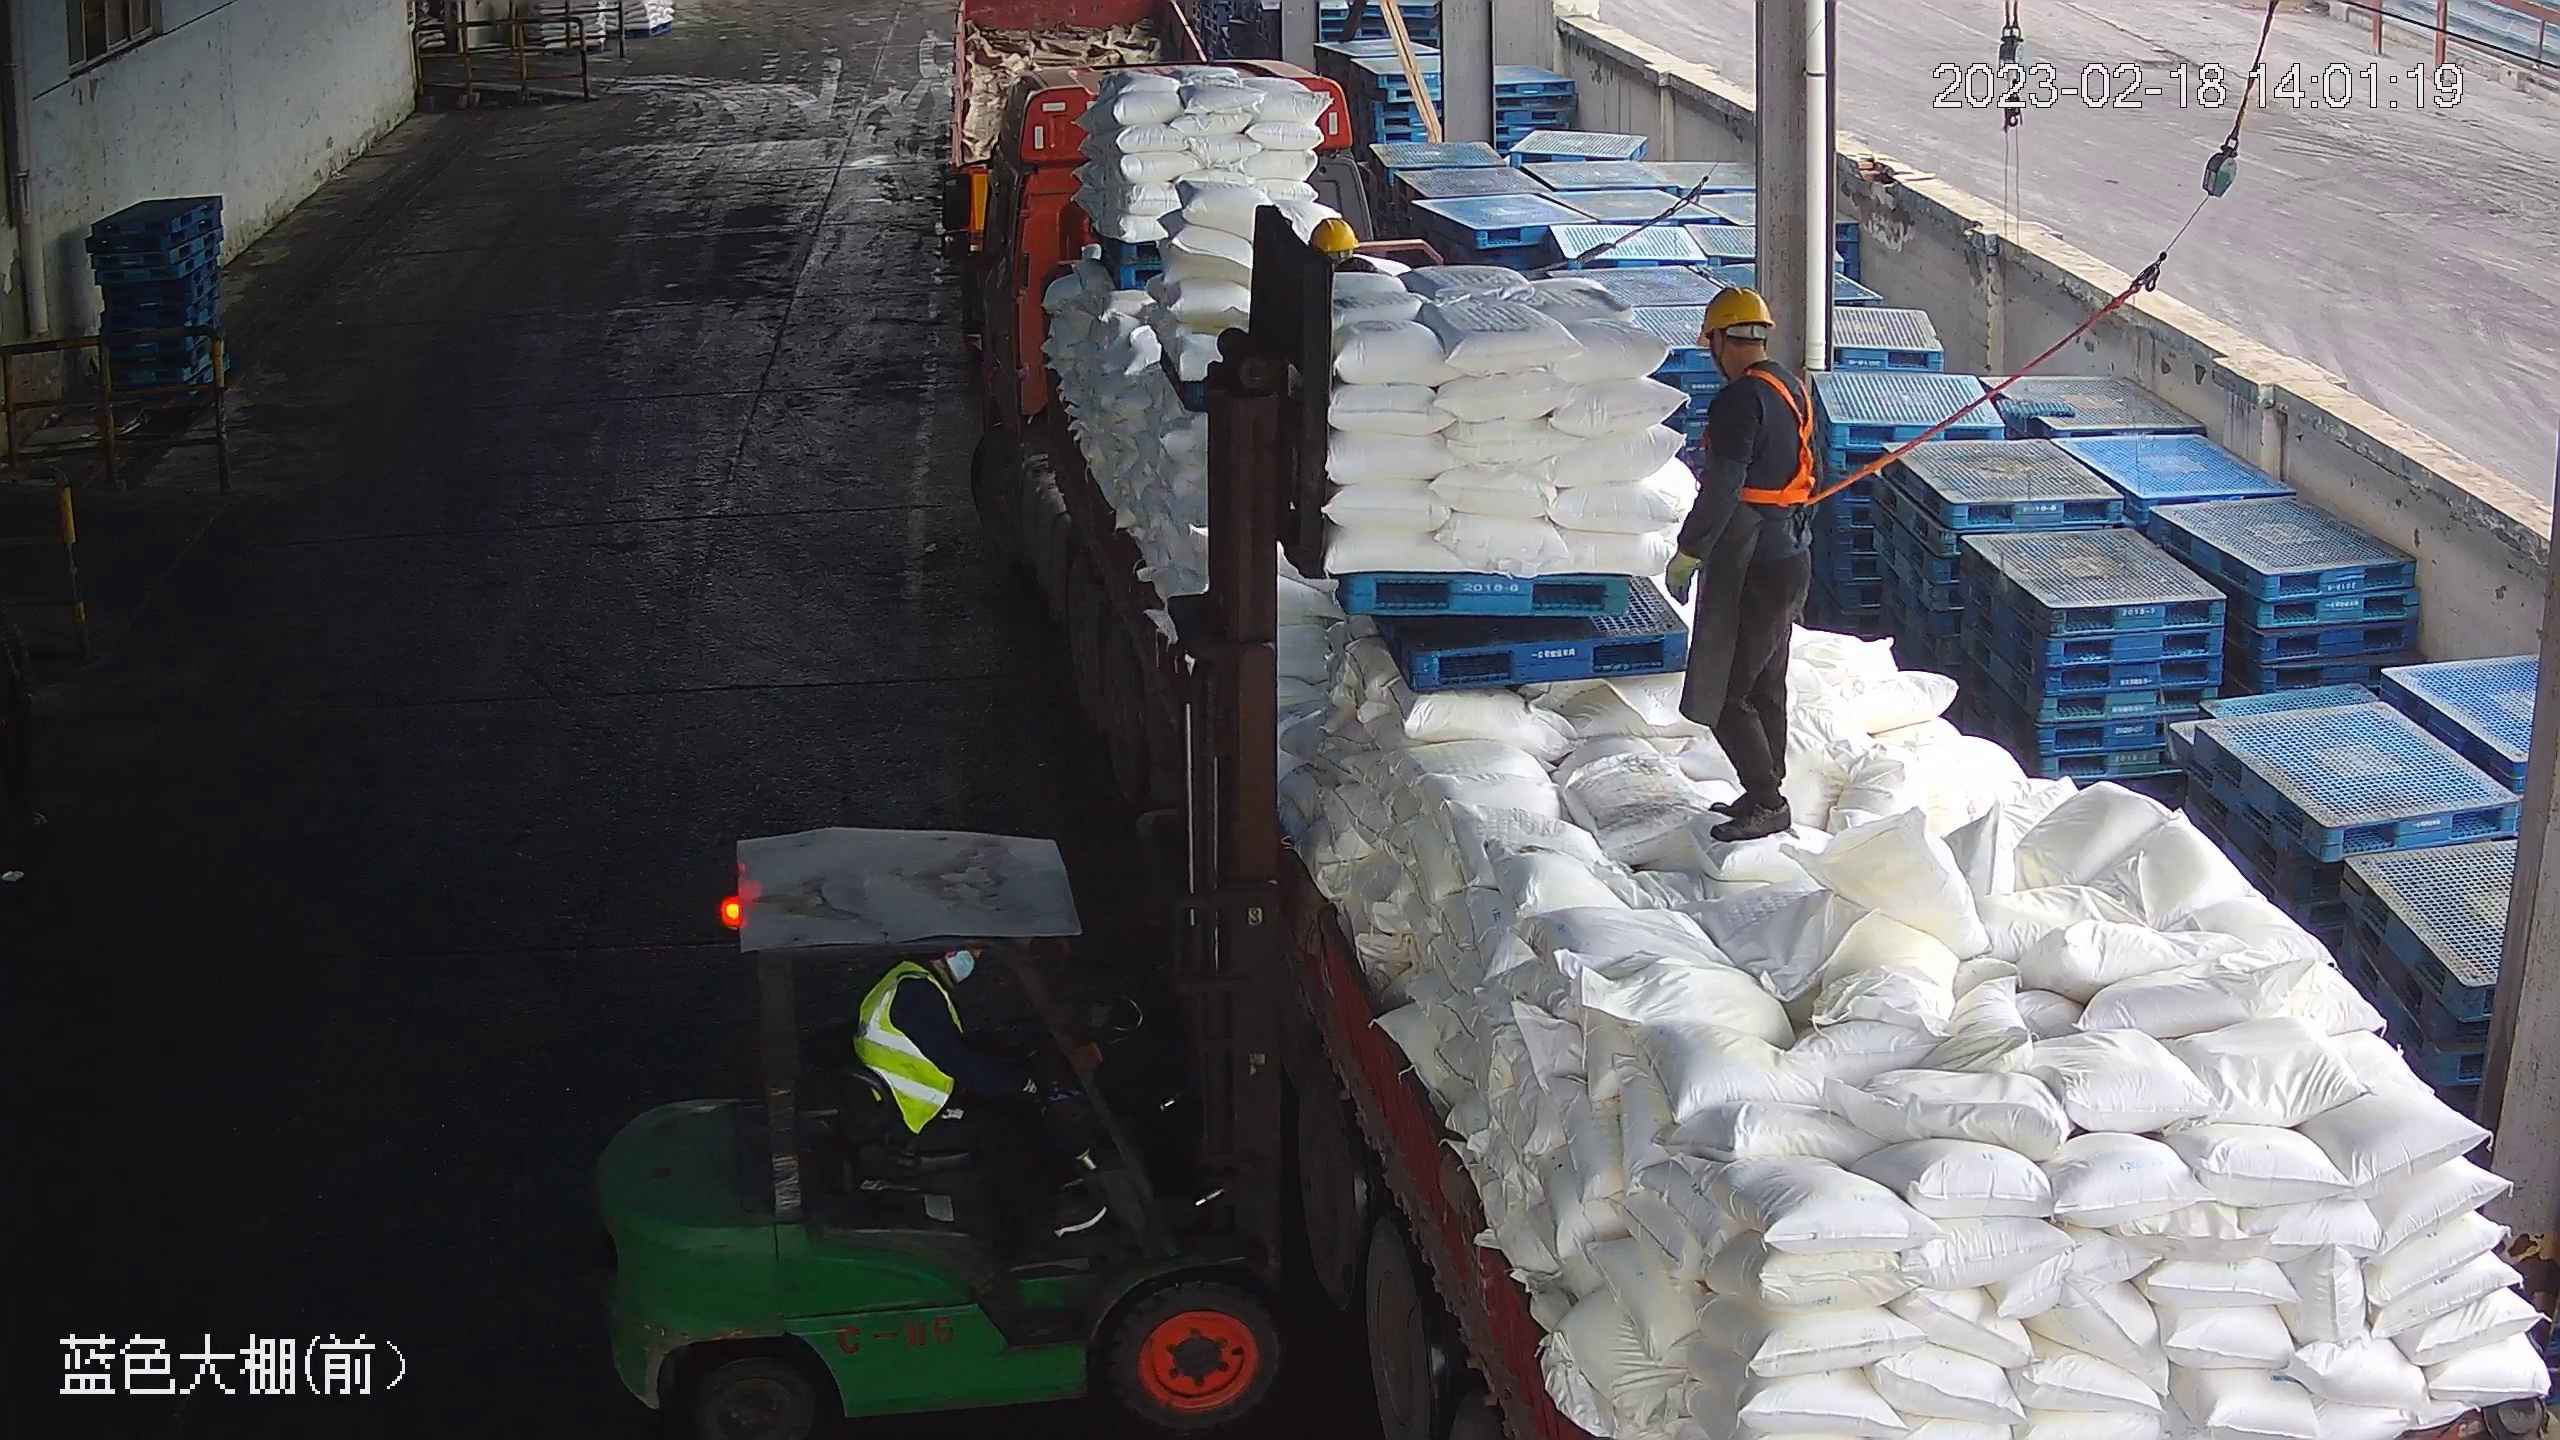belt: (1728, 364, 1841, 514)
head: (1681, 284, 1834, 444)
helmet: (1693, 283, 1774, 342), (1309, 213, 1361, 255)
people: (1660, 283, 1824, 846), (855, 941, 1098, 1231)
truck: (948, 65, 2552, 1440)
